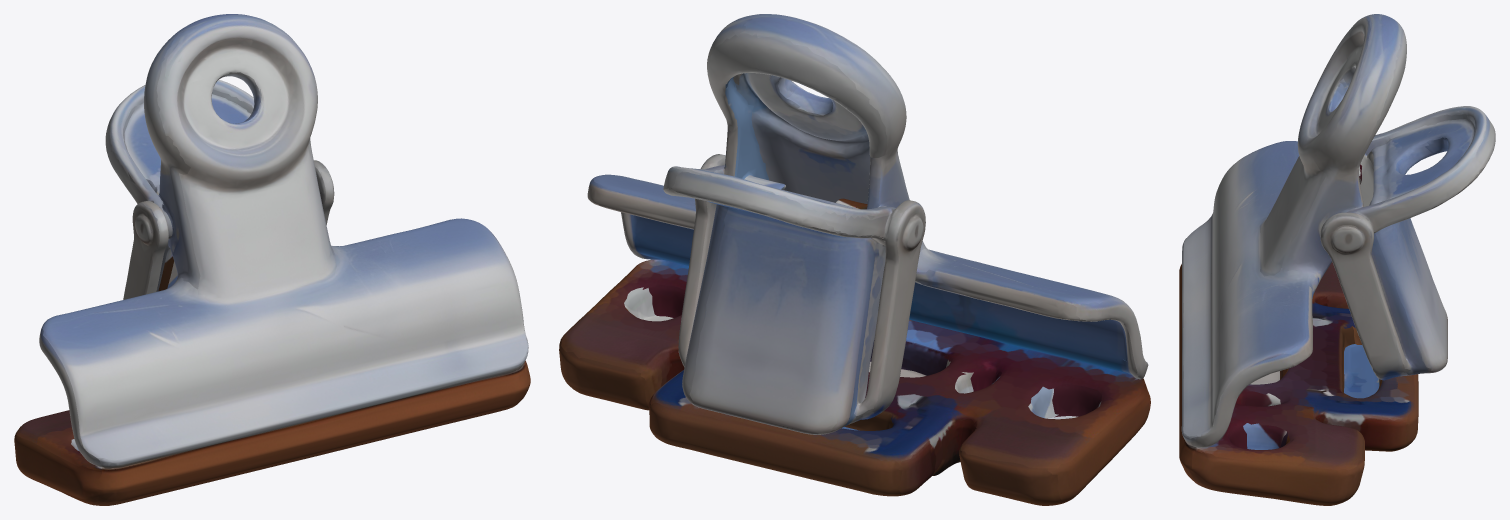
The model's file is DocumentClip.glb.
The picture shows the model from 3 angles, left to right: view 1: azimuth 30°, elevation 25°; view 2: azimuth 150°, elevation 25°; view 3: azimuth 270°, elevation 25°; orthographic projection. The views are drawn at different scales.
Visible parts, largest first — view 1: DocumentClip; view 2: DocumentClip; view 3: DocumentClip.
Boxes of the visible parts, left/top/right/bottom form: DocumentClip: left=14, top=14, right=530, bottom=505; DocumentClip: left=559, top=14, right=1150, bottom=505; DocumentClip: left=1179, top=14, right=1495, bottom=505.
Size of the model in its own units: 2 by 1.66 by 1.24.
1 material, 1 textured.
